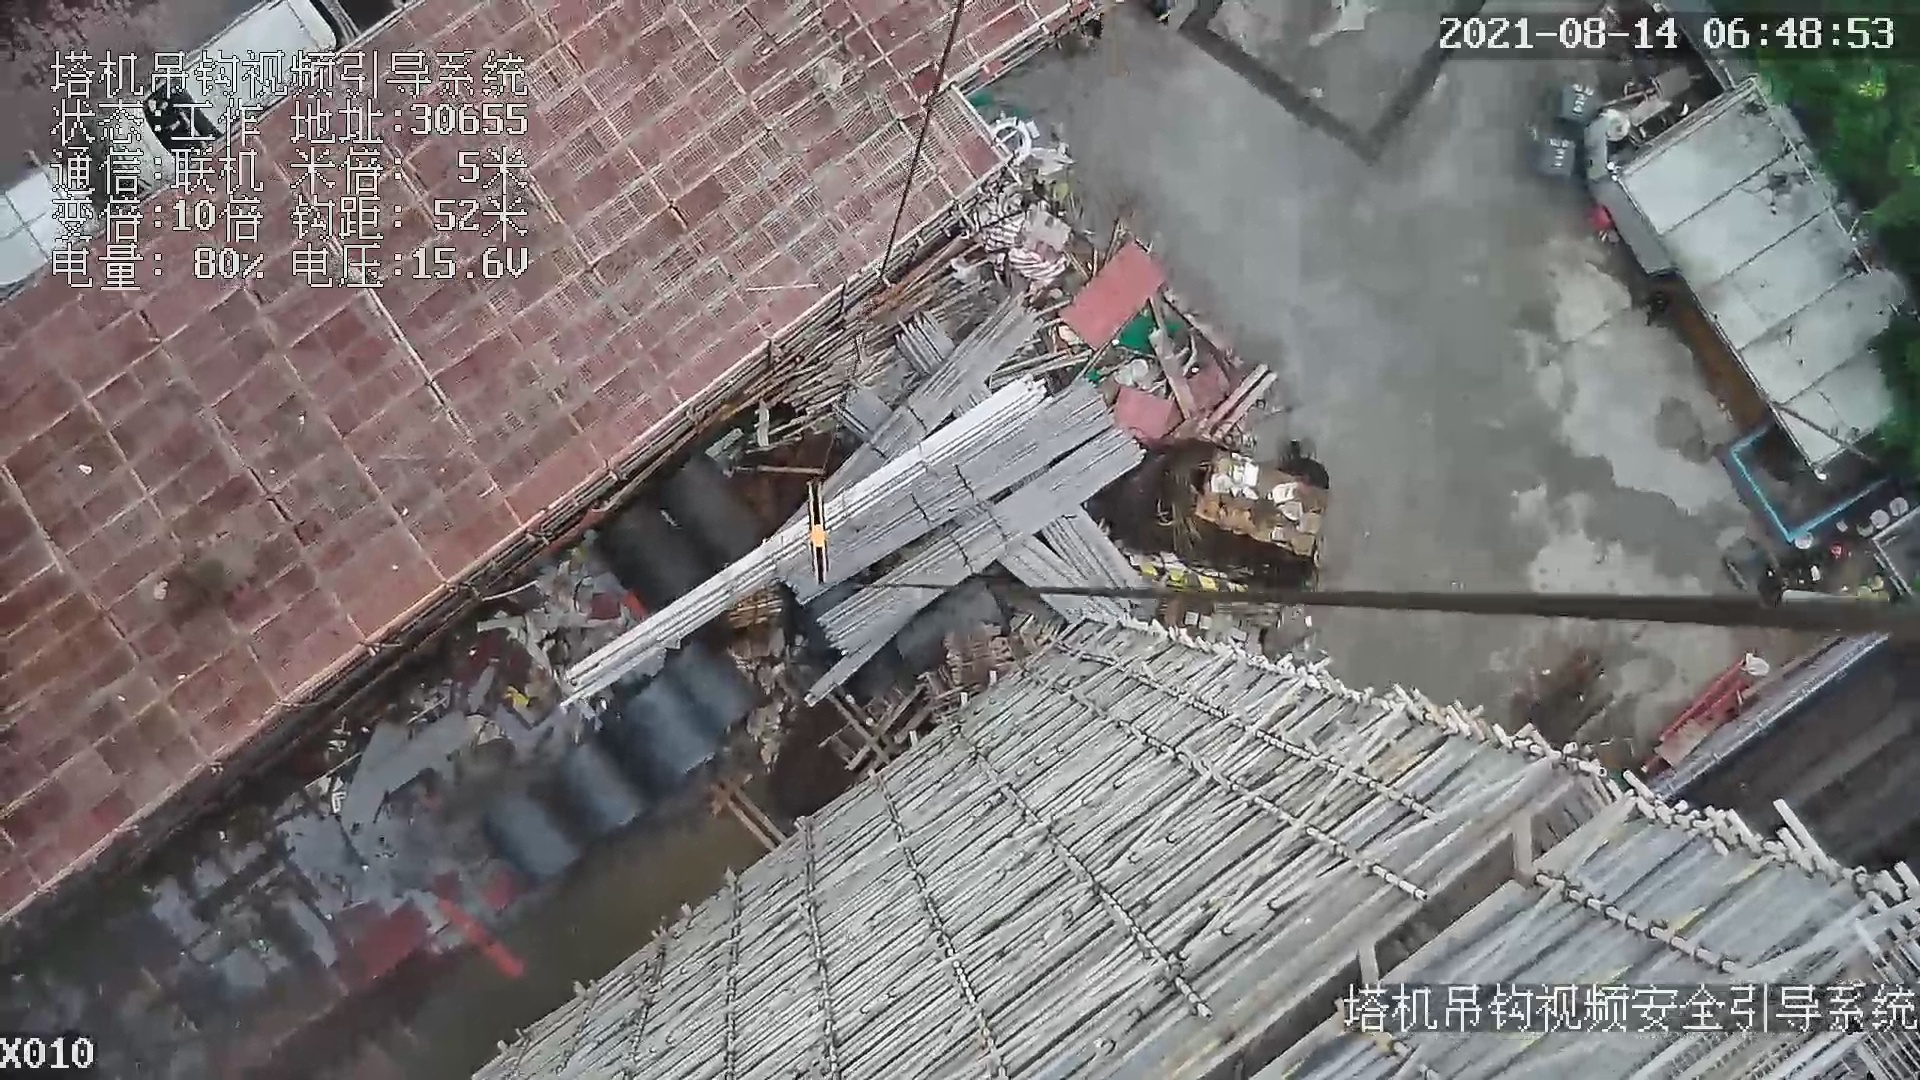hook: (799, 472, 835, 585)
hopper: (1717, 407, 1888, 546)
